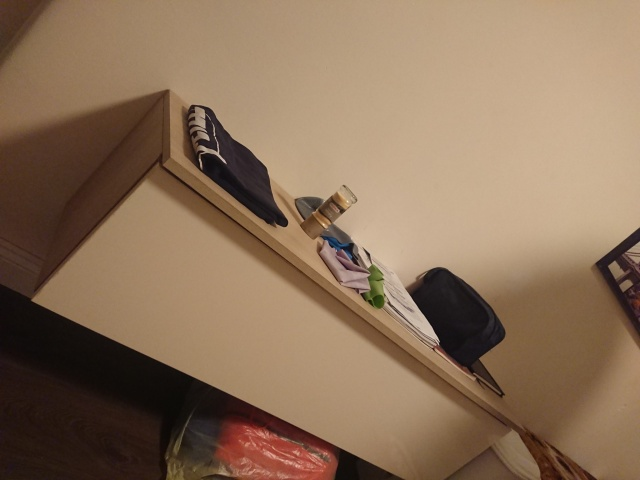Kotanyi Garlic Granules 70g: (298, 182, 359, 241)
